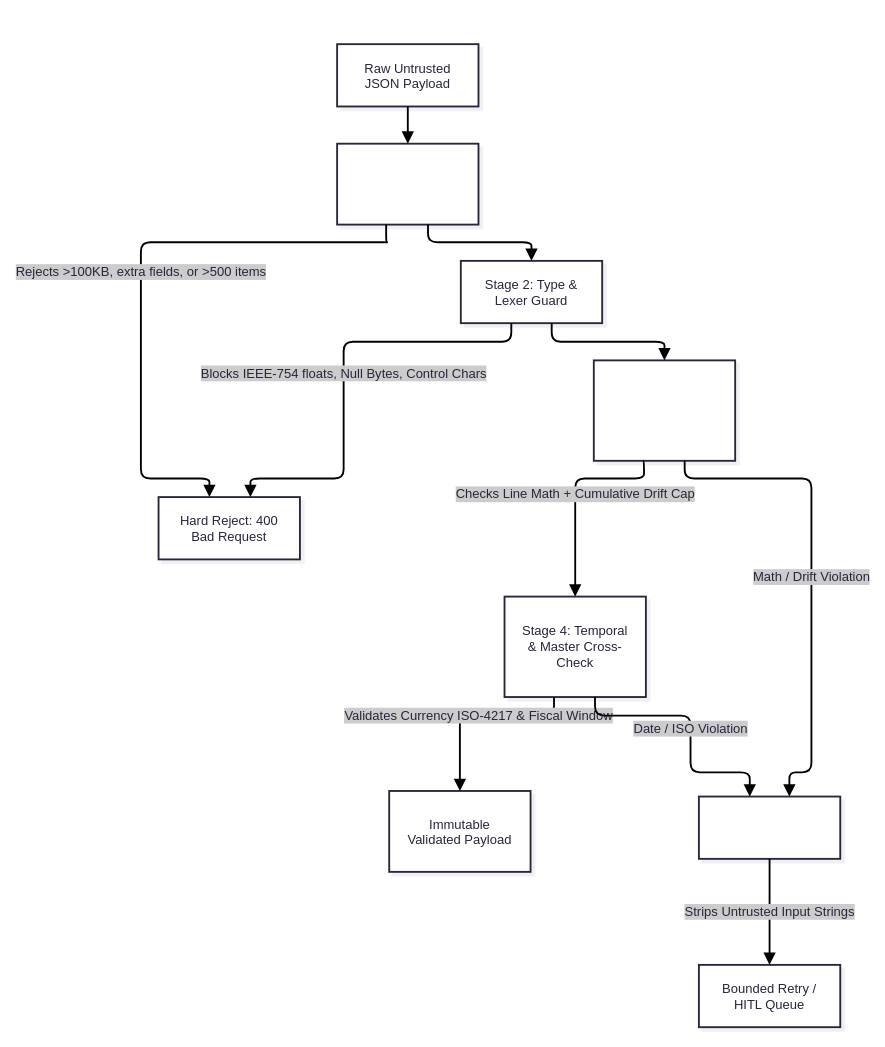
Image size: 885x1047. Some labels were removed from this diagram. Here are the shapes that lost their labels. From the top down, the centre of each, then its label:
the point at 409,185: Stage 1: Structural & Size Guard
the point at 665,412: Stage 3: Isolated Decimal Context Arithmetic
the point at 771,829: Sanitized Error Builder
